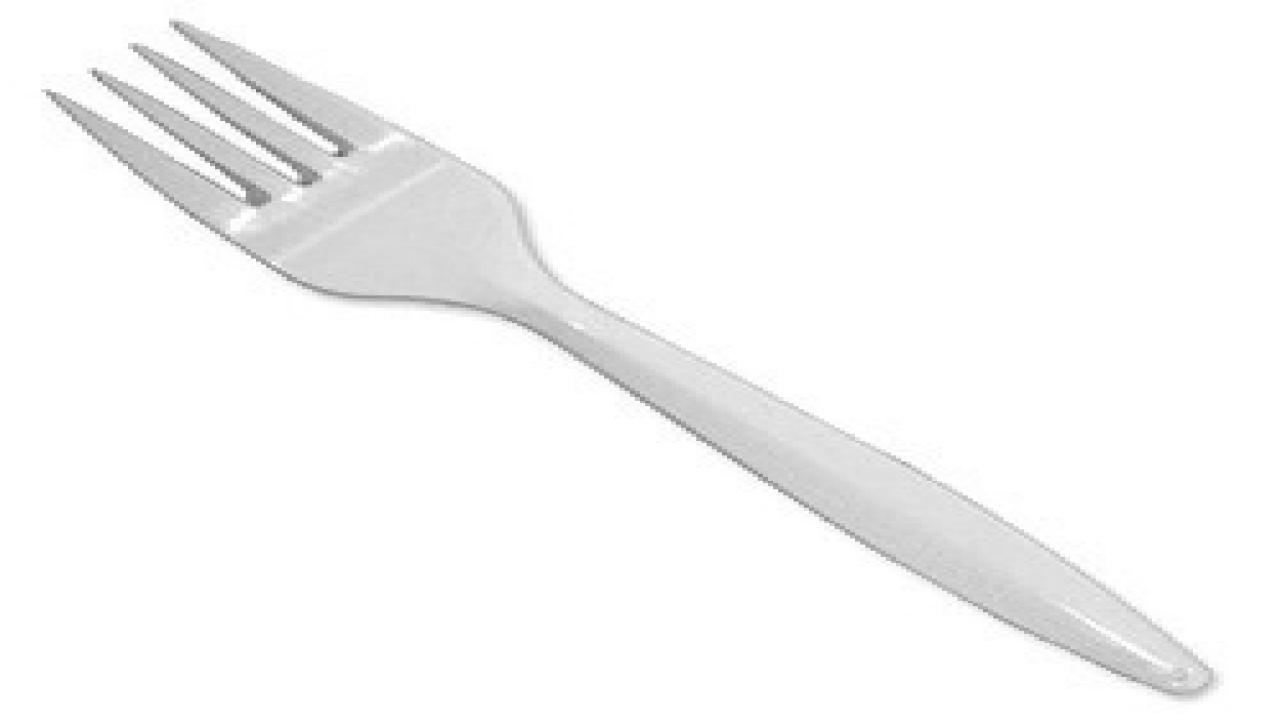fork: (36, 16, 1213, 696)
